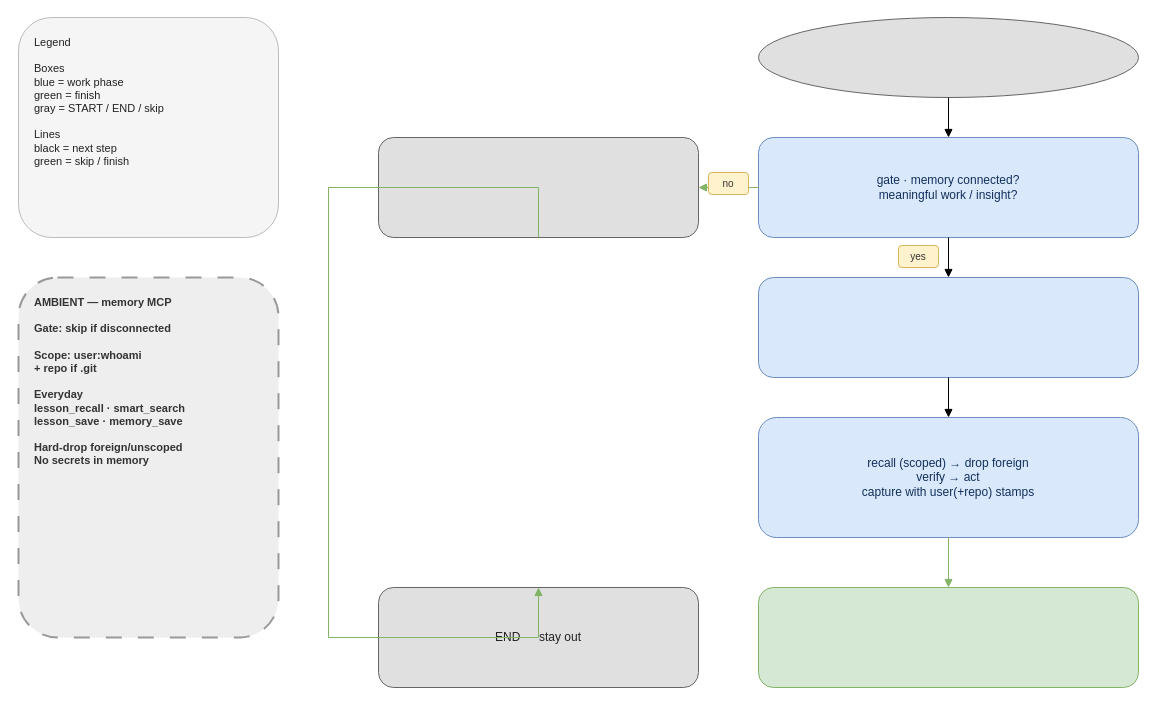
This 1156x705 diagram has some shape labels left out. Each missing label, with the box of its shape:
END — used own leads and/or stamped save: (758, 586, 1138, 688)
scope · agentmemory_scope.py user stamp required repo stamp when .git: (758, 276, 1138, 378)
skip — disconnected or pure rename/typo with no decision risk: (378, 136, 698, 238)
START — user ask: (758, 16, 1138, 98)
